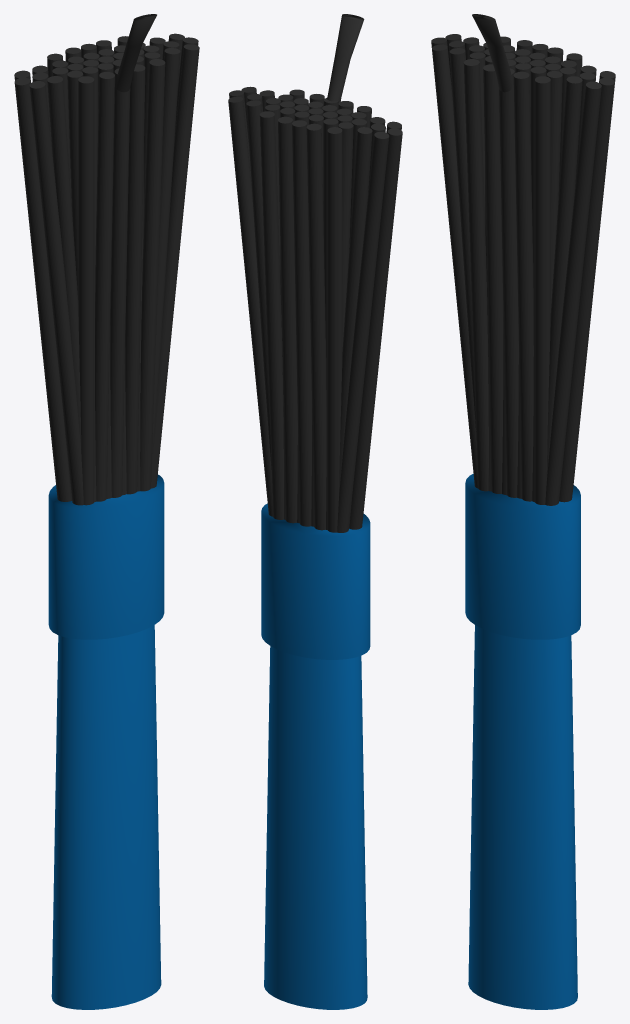
The model's file is FircaCollectable2.fbx.
3 renders of one model, left to right at view 1: azimuth 30°, elevation 25°; view 2: azimuth 150°, elevation 25°; view 3: azimuth 330°, elevation 25°, orthographic. The views are drawn at different scales.
Parts seen in each view (by area): view 1: Cylinder.001, Cylinder.042, Cylinder.031, Cylinder.041, Cylinder.038, Cylinder.030, Cylinder.040, Cylinder.039, Cylinder.022, Cylinder.028, Cylinder.019, Cylinder.025 (+7 smaller); view 2: Cylinder.001, Cylinder.033, Cylinder.032, Cylinder.036, Cylinder.037, Cylinder.034, Cylinder.035, Cylinder.030, Cylinder.023, Cylinder.029, Cylinder.020, Cylinder.026 (+5 smaller); view 3: Cylinder.001, Cylinder.022, Cylinder.042, Cylinder.040, Cylinder.038, Cylinder.041, Cylinder.039, Cylinder.021, Cylinder.031, Cylinder.019, Cylinder.028, Cylinder.016 (+7 smaller).
Boxes of the visible parts, x1=… form: Cylinder.001: x1=48, y1=474, x2=164, y2=1009; Cylinder.042: x1=78, y1=76, x2=94, y2=505; Cylinder.031: x1=29, y1=81, x2=83, y2=505; Cylinder.041: x1=140, y1=59, x2=165, y2=491; Cylinder.038: x1=95, y1=72, x2=114, y2=501; Cylinder.030: x1=14, y1=77, x2=70, y2=501; Cylinder.040: x1=125, y1=64, x2=145, y2=494; Cylinder.039: x1=110, y1=68, x2=130, y2=497; Cylinder.022: x1=151, y1=44, x2=199, y2=488; Cylinder.028: x1=47, y1=76, x2=81, y2=449; Cylinder.019: x1=151, y1=48, x2=180, y2=464; Cylinder.025: x1=67, y1=70, x2=95, y2=502; Cylinder.001: x1=261, y1=503, x2=370, y2=1009; Cylinder.033: x1=306, y1=123, x2=326, y2=530; Cylinder.032: x1=337, y1=132, x2=389, y2=532; Cylinder.036: x1=259, y1=111, x2=283, y2=519; Cylinder.037: x1=327, y1=127, x2=342, y2=532; Cylinder.034: x1=292, y1=120, x2=311, y2=526; Cylinder.035: x1=278, y1=116, x2=297, y2=523; Cylinder.030: x1=349, y1=128, x2=402, y2=529; Cylinder.023: x1=228, y1=96, x2=273, y2=516; Cylinder.029: x1=339, y1=127, x2=372, y2=495; Cylinder.020: x1=246, y1=100, x2=271, y2=469; Cylinder.026: x1=338, y1=122, x2=353, y2=351; Cylinder.001: x1=465, y1=473, x2=580, y2=1009; Cylinder.022: x1=545, y1=81, x2=601, y2=505; Cylinder.042: x1=463, y1=59, x2=488, y2=491; Cylinder.040: x1=513, y1=71, x2=533, y2=501; Cylinder.038: x1=483, y1=64, x2=503, y2=493; Cylinder.041: x1=535, y1=76, x2=550, y2=504; Cylinder.039: x1=499, y1=68, x2=518, y2=497; Cylinder.021: x1=559, y1=78, x2=614, y2=502; Cylinder.031: x1=432, y1=44, x2=478, y2=488; Cylinder.019: x1=546, y1=76, x2=582, y2=480; Cylinder.028: x1=449, y1=48, x2=476, y2=431; Cylinder.016: x1=547, y1=71, x2=562, y2=312.
Bounding box in the file's own units: 39.53 × 208 × 23.85.
